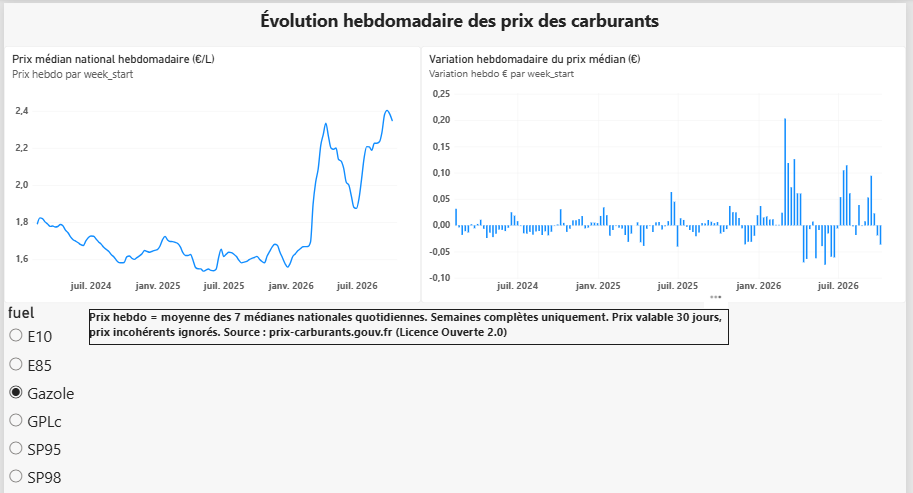

The dashboard page shown, as its layout file describes it:
{"tool":"powerbi","page":{"name":"Hebdomadaire","canvas":[1920,1080],"ordinal":1},"visuals":[{"type":"slicer","fields":{"Values":["dim_fuel.fuel"]},"box":[0,637.6,190.8,442.4],"z":0},{"type":"clusteredColumnChart","title":"Variation hebdomadaire du prix médian (€)","fields":{"Category":["weekly_stats.week_start"],"Y":["_Mesures.Variation hebdo €"]},"box":[887,91.1,1032.3,546.5],"z":1000},{"type":"lineChart","title":"Prix médian national hebdomadaire (€/L)","fields":{"Category":["weekly_stats.week_start"],"Y":["_Mesures.Prix hebdo"]},"box":[0,91.1,887,546.5],"z":2000},{"type":"textbox","box":[180,650.6,1361.9,78.1],"z":3000},{"type":"textbox","box":[19.5,10.8,1899.8,49.9],"z":4000}]}

Visuals, with their boxes on the page's 1920x1080 design canvas (x1, y1, x2, y2). These are canvas units, not pixel positions in the 913x493 screenshot, which may show the page scaled, cropped or inside an application window:
slicer - dim_fuel.fuel: <region>0, 638, 191, 1080</region>
"Variation hebdomadaire du prix médian (€)" clusteredColumnChart: <region>887, 91, 1919, 638</region>
"Prix médian national hebdomadaire (€/L)" lineChart: <region>0, 91, 887, 638</region>
textbox: <region>180, 651, 1542, 729</region>
textbox: <region>20, 11, 1919, 61</region>
